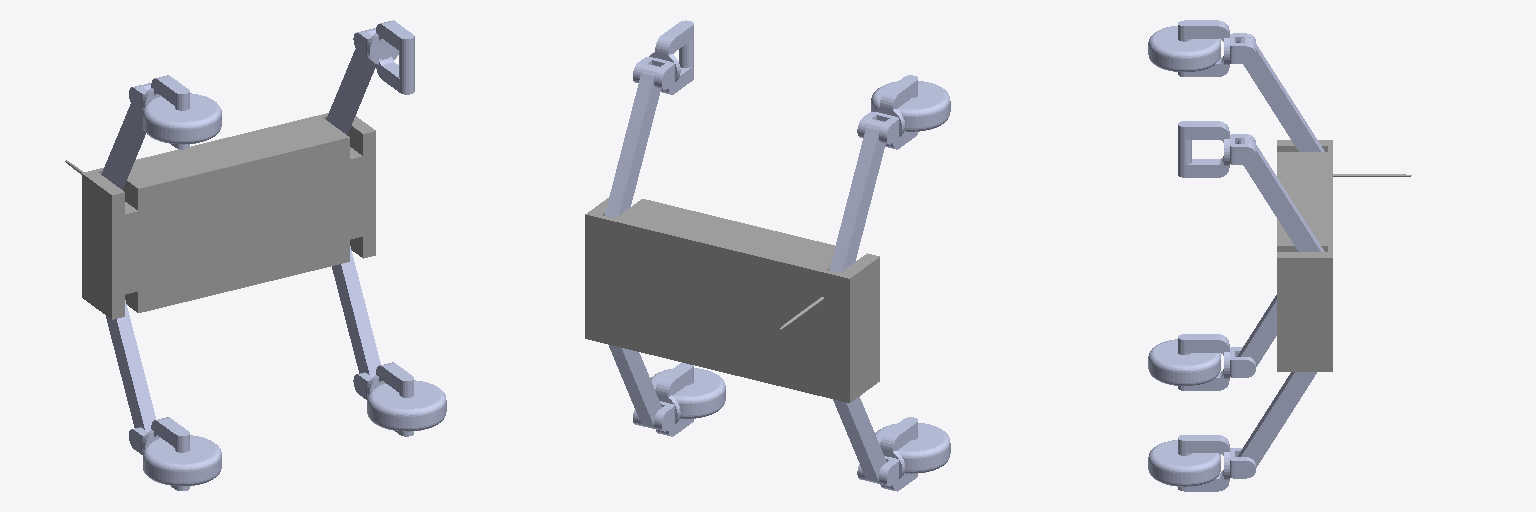
--- Render facts (derived) ---
3 views of the same robot in one strip: view 1: azimuth 30°, elevation 25°; view 2: azimuth 150°, elevation 25°; view 3: azimuth 270°, elevation 25° (orthographic).
Robot: sim_rover_1 — 17 links, 16 joints (12 revolute, 4 continuous); root link base_link; default pose: every joint at zero.
Visible links, largest first — view 1: base_link, fwheel_l, bwheel_r, bwheel_l, bleg_l, fleg_l, fsteer_r, fleg_r, bleg_r, bsteer_l, bsteer_r, fsteer_l (+1 smaller); view 2: base_link, fleg_r, bleg_r, bwheel_r, bleg_l, fleg_l, bwheel_l, fwheel_l, fsteer_r, bsteer_r, bsteer_l, fsteer_l (+4 smaller); view 3: base_link, bleg_r, fleg_r, fwheel_l, bwheel_r, bwheel_l, fleg_l, fsteer_r, bsteer_l, bsteer_r, fsteer_l, bleg_l (+4 smaller).
Boxes of the visible links, left/top/right/bottom form: base_link: left=65, top=113, right=375, bottom=319; fwheel_l: left=367, top=380, right=446, bottom=431; bwheel_r: left=143, top=93, right=221, bottom=144; bwheel_l: left=143, top=435, right=221, bottom=485; bleg_l: left=106, top=300, right=155, bottom=431; fleg_l: left=332, top=246, right=380, bottom=376; fsteer_r: left=367, top=20, right=414, bottom=94; fleg_r: left=326, top=28, right=375, bottom=134; bleg_r: left=101, top=83, right=150, bottom=189; bsteer_l: left=142, top=417, right=189, bottom=490; bsteer_r: left=142, top=75, right=189, bottom=149; fsteer_l: left=367, top=362, right=413, bottom=436; base_link: left=585, top=198, right=879, bottom=402; fleg_r: left=605, top=64, right=660, bottom=218; bleg_r: left=829, top=119, right=885, bottom=272; bwheel_r: left=871, top=81, right=950, bottom=131; bleg_l: left=833, top=396, right=886, bottom=483; fleg_l: left=609, top=345, right=661, bottom=428; bwheel_l: left=875, top=423, right=950, bottom=473; fwheel_l: left=650, top=368, right=725, bottom=418; fsteer_r: left=649, top=20, right=693, bottom=94; bsteer_r: left=873, top=75, right=917, bottom=149; bsteer_l: left=880, top=417, right=917, bottom=491; fsteer_l: left=655, top=363, right=693, bottom=436; base_link: left=1277, top=140, right=1411, bottom=371; bleg_r: left=1237, top=37, right=1324, bottom=151; fleg_r: left=1237, top=138, right=1324, bottom=251; fwheel_l: left=1148, top=440, right=1220, bottom=486; bwheel_r: left=1148, top=26, right=1220, bottom=71; bwheel_l: left=1148, top=339, right=1220, bottom=385; fleg_l: left=1238, top=372, right=1316, bottom=467; fsteer_r: left=1178, top=121, right=1229, bottom=177; bsteer_l: left=1178, top=334, right=1229, bottom=390; bsteer_r: left=1178, top=20, right=1229, bottom=76; fsteer_l: left=1178, top=435, right=1229, bottom=491; bleg_l: left=1237, top=295, right=1276, bottom=366.
Bounding box of the posed robot: 1.11 × 0.94 × 1.44 m (x, y, z).
16 mesh visuals loaded from 17 distinct referenced files (16 binary STL); not drawn: 1 (reference not matched to a file when rendering).

The robot description file, URDF, robot "sim_rover_1":
<?xml version="1.0"?>
<robot name="sim_rover_1" xmlns:xacro="http://www.ros.org/wiki/xacro">

  <!-- *********************** GAZEBO *********************** -->

   <gazebo>
     <plugin name="gazebo_ros_control" filename="libgazebo_ros_control.so">
       <robotNamespace>/sim_rover_1</robotNamespace>
     </plugin>
   </gazebo>

   <!--<gazebo reference="base_link_leg_fr">
      <implicitSpringDamper>1</implicitSpringDamper>
   </gazebo>
   <gazebo reference="base_link_leg_br">
      <implicitSpringDamper>1</implicitSpringDamper>
   </gazebo>
   <gazebo reference="base_link_leg_fl">
      <implicitSpringDamper>1</implicitSpringDamper>
   </gazebo>
   <gazebo reference="base_link_leg_bl">
      <implicitSpringDamper>1</implicitSpringDamper>
   </gazebo> -->

<!-- ******************* TRANSMISSIONS ******************** -->

  <!-- ***************************** LEGS ***************************** -->
  <transmission name="trm_bleg_r">
    <type>transmission_interface/SimpleTransmission</type>
    <joint name="j_bleg_r">
      <hardwareInterface>hardware_interface/EffortJointInterface</hardwareInterface>
    </joint>
    <actuator name="act_bleg_r">
      <hardwareInterface>hardware_interface/EffortJointInterface</hardwareInterface>
    </actuator>
  </transmission>

  <transmission name="trm_bleg_l">
    <type>transmission_interface/SimpleTransmission</type>
    <joint name="j_bleg_l">
      <hardwareInterface>hardware_interface/EffortJointInterface</hardwareInterface>
    </joint>
    <actuator name="act_bleg_l">
      <hardwareInterface>hardware_interface/EffortJointInterface</hardwareInterface>
    </actuator>
  </transmission>

  <transmission name="trm_fleg_r">
    <type>transmission_interface/SimpleTransmission</type>
    <joint name="j_fleg_r">
      <hardwareInterface>hardware_interface/EffortJointInterface</hardwareInterface>
    </joint>
    <actuator name="act_fleg_r">
      <hardwareInterface>hardware_interface/EffortJointInterface</hardwareInterface>
    </actuator>
  </transmission>

  <transmission name="trm_fleg_l">
    <type>transmission_interface/SimpleTransmission</type>
    <joint name="j_fleg_l">
      <hardwareInterface>hardware_interface/EffortJointInterface</hardwareInterface>
    </joint>
    <actuator name="act_fleg_l">
      <hardwareInterface>hardware_interface/EffortJointInterface</hardwareInterface>
    </actuator>
  </transmission>

  <!-- ***************************** WHEELS ***************************** -->
  <transmission name="trm_bwheel_r">
    <type>transmission_interface/SimpleTransmission</type>
    <joint name="j_bwheel_r">
      <hardwareInterface>hardware_interface/EffortJointInterface</hardwareInterface>
    </joint>
    <actuator name="act_bwheel_r">
      <hardwareInterface>hardware_interface/EffortJointInterface</hardwareInterface>
    </actuator>
  </transmission>

  <transmission name="trm_bwheel_l">
    <type>transmission_interface/SimpleTransmission</type>
    <joint name="j_bwheel_l">
      <hardwareInterface>hardware_interface/EffortJointInterface</hardwareInterface>
    </joint>
    <actuator name="act_bwheel_l">
      <hardwareInterface>hardware_interface/EffortJointInterface</hardwareInterface>
    </actuator>
  </transmission>

  <transmission name="trm_fwheel_r">
    <type>transmission_interface/SimpleTransmission</type>
    <joint name="j_fwheel_r">
      <hardwareInterface>hardware_interface/EffortJointInterface</hardwareInterface>
    </joint>
    <actuator name="act_fwheel_r">
      <hardwareInterface>hardware_interface/EffortJointInterface</hardwareInterface>
    </actuator>
  </transmission>

  <transmission name="trm_fwheel_l">
    <type>transmission_interface/SimpleTransmission</type>
    <joint name="j_fwheel_l">
      <hardwareInterface>hardware_interface/EffortJointInterface</hardwareInterface>
    </joint>
    <actuator name="act_fwheel_l">
      <hardwareInterface>hardware_interface/EffortJointInterface</hardwareInterface>
    </actuator>
  </transmission>

  <!-- ***************************** STEERING ***************************** -->
  <transmission name="trm_bsteer_r">
    <type>transmission_interface/SimpleTransmission</type>
    <joint name="j_bsteer_r">
      <hardwareInterface>hardware_interface/EffortJointInterface</hardwareInterface>
    </joint>
    <actuator name="act_bsteer_r">
      <hardwareInterface>hardware_interface/EffortJointInterface</hardwareInterface>
    </actuator>
  </transmission>

  <transmission name="trm_bsteer_l">
    <type>transmission_interface/SimpleTransmission</type>
    <joint name="j_bsteer_l">
      <hardwareInterface>hardware_interface/EffortJointInterface</hardwareInterface>
    </joint>
    <actuator name="act_bsteer_l">
      <hardwareInterface>hardware_interface/EffortJointInterface</hardwareInterface>
    </actuator>
  </transmission>

  <transmission name="trm_fsteer_r">
    <type>transmission_interface/SimpleTransmission</type>
    <joint name="j_fsteer_r">
      <hardwareInterface>hardware_interface/EffortJointInterface</hardwareInterface>
    </joint>
    <actuator name="act_fsteer_r">
      <hardwareInterface>hardware_interface/EffortJointInterface</hardwareInterface>
    </actuator>
  </transmission>

  <transmission name="trm_fsteer_l">
    <type>transmission_interface/SimpleTransmission</type>
    <joint name="j_fsteer_l">
      <hardwareInterface>hardware_interface/EffortJointInterface</hardwareInterface>
    </joint>
    <actuator name="act_fsteer_l">
      <hardwareInterface>hardware_interface/EffortJointInterface</hardwareInterface>
    </actuator>
  </transmission>

<!-- ************* LINKS & JOINTS ************ -->

  <link
    name="base_link">
    <inertial>
      <origin
        xyz="-0.00023551 -0.099944 7.7704E-05"
        rpy="0 0 0" />
      <mass
        value="17.276" />
      <inertia
        ixx="0.33696"
        ixy="0.00054168"
        ixz="0.00030699"
        iyy="1.6473"
        iyz="-0.00017872"
        izz="1.4272" />
    </inertial>
    <visual>
      <origin
        xyz="0 0 0"
        rpy="0 0 0" />
      <geometry>
        <mesh
          filename="package://mainframe/meshes/base_link.STL" />
      </geometry>
      <material
        name="">
        <color
          rgba="0.69804 0.69804 0.69804 1" />
      </material>
    </visual>
    <collision>
      <origin
        xyz="0 0 0"
        rpy="0 0 0" />
      <geometry>
        <mesh
          filename="package://mainframe/meshes/base_link.STL" />
      </geometry>
    </collision>
  </link>

<!-- ************* BACK RIGHT LEG ************** -->

  <link
    name="bleg_r">
    <inertial>
      <origin
        xyz="-0.025006 2.2204E-16 0.23942"
        rpy="0 0 0" />
      <mass
        value="2.2328" />
      <inertia
        ixx="0.068791"
        ixy="-3.1573E-19"
        ixz="3.4103E-06"
        iyy="0.068771"
        iyz="-1.4583E-17"
        izz="0.0016756" />
    </inertial>
    <visual>
      <origin
        xyz="0 0 0"
        rpy="0 0 0" />
      <geometry>
        <mesh
          filename="package://mainframe/meshes/bleg_r.STL" />
      </geometry>
      <material
        name="">
        <color
          rgba="0.79216 0.81961 0.93333 1" />
      </material>
    </visual>
    <collision>
      <origin
        xyz="0 0 0"
        rpy="0 0 0" />
      <geometry>
        <mesh
          filename="package://mainframe/meshes/bleg_r.STL" />
      </geometry>
    </collision>
  </link>
  <joint
    name="j_bleg_r"
    type="revolute">
    <origin
      xyz="-0.4001 -0.06 0.18503"
      rpy="0.5236 0 0" />
    <parent
      link="base_link" />
    <child
      link="bleg_r" />
    <axis
      xyz="1 0 0" />
    <limit
      lower="-0.5235988"
      upper="1.0471976"
      effort="0"
      velocity="0" />
  </joint>

  <link
    name="bmem_r">
    <inertial>
      <origin
        xyz="-0.025 -2.2204E-16 0.036945"
        rpy="0 0 0" />
      <mass
        value="0.43305" />
      <inertia
        ixx="0.00057181"
        ixy="-1.9628E-20"
        ixz="5.133E-20"
        iyy="0.00089188"
        iyz="4.8508E-20"
        izz="0.00069798" />
    </inertial>
    <visual>
      <origin
        xyz="0.025 0 0"
        rpy="0 0 0" />
      <geometry>
        <mesh
          filename="package://mainframe/meshes/bmem_r.STL" />
      </geometry>
      <material
        name="">
        <color
          rgba="0.79216 0.81961 0.93333 1" />
      </material>
    </visual>
    <collision>
      <origin
        xyz="0.025 0 0"
        rpy="0 0 0" />
      <geometry>
        <mesh
          filename="package://mainframe/meshes/bmem_r.STL" />
      </geometry>
    </collision>
  </link>
  <joint
    name="j_bmem_r"
    type="revolute">
    <origin
      xyz="-0.025 0 0.5"
      rpy="1.0472 -5.3571E-18 6.1232E-17" />
    <parent
      link="bleg_r" />
    <child
      link="bmem_r" />
    <axis
      xyz="1 0 0" />
    <limit
      lower="-3.14159"
      upper="3.14159"
      effort="0"
      velocity="0" />
  </joint>

  <link
    name="bsteer_r">
    <inertial>
      <origin
        xyz="0.0961914433810627 0.0250000080243797 5.9504070115679E-08"
        rpy="0 0 0" />
      <mass
        value="1.17586141997268" />
      <inertia
        ixx="0.00561276685308554"
        ixy="5.0542149965197E-10"
        ixz="3.17022672970041E-09"
        iyy="0.00912476488545196"
        iyz="2.50568828376167E-10"
        izz="0.00424725187394063" />
    </inertial>
    <visual>
      <origin
        xyz="0 -0.025 0"
        rpy="0 0 0" />
      <geometry>
        <mesh
          filename="package://mainframe/meshes/bsteer_r.STL" />
      </geometry>
      <material
        name="">
        <color
          rgba="0.792156862745098 0.819607843137255 0.933333333333333 1" />
      </material>
    </visual>
    <collision>
      <origin
        xyz="0 -0.025 0"
        rpy="0 0 0" />
      <geometry>
        <mesh
          filename="package://mainframe/meshes/bsteer_r.STL" />
      </geometry>
    </collision>
  </link>
  <joint
    name="j_bsteer_r"
    type="revolute">
    <origin
      xyz="0 0 0.06"
      rpy="1.5708 -1.5708 0" />
    <parent
      link="bmem_r" />
    <child
      link="bsteer_r" />
    <axis
      xyz="-1 0 0" />
    <limit
      lower="-3.14159"
      upper="3.14159"
      effort="0"
      velocity="0" />
  </joint>

  <link
    name="bwheel_r">
    <inertial>
      <origin
        xyz="0 0 0"
        rpy="0 0 0" />
      <mass
        value="3.9549407607709" />
      <inertia
        ixx="0.0337021722670314"
        ixy="1.67282003214665E-19"
        ixz="-2.64986943783354E-19"
        iyy="0.0188603494315555"
        iyz="-7.93387527261529E-20"
        izz="0.0188603494315555" />
    </inertial>
    <visual>
      <origin
        xyz="0 0 0"
        rpy="0 0 0" />
      <geometry>
        <mesh
          filename="package://mainframe/meshes/bwheel_r.STL" />
      </geometry>
      <material
        name="">
        <color
          rgba="0.792156862745098 0.819607843137255 0.933333333333333 1" />
      </material>
    </visual>
    <collision>
      <origin
        xyz="0 0 0"
        rpy="0 0 0" />
      <geometry>
        <mesh
          filename="package://mainframe/meshes/bwheel_r.STL" />
      </geometry>
    </collision>
  </link>
  <joint
    name="j_bwheel_r"
    type="continuous">
    <origin
      xyz="0.16 0 0"
      rpy="1.5707963267949 1.5707963267949 0" />
    <parent
      link="bsteer_r" />
    <child
      link="bwheel_r" />
    <axis
      xyz="-1 0 0" />
  </joint>

<!-- ************* BACK LEFT LEG ************** -->

  <link
    name="bleg_l">
    <inertial>
      <origin
        xyz="0.025006 0 0.23942"
        rpy="0 0 0" />
      <mass
        value="2.2328" />
      <inertia
        ixx="0.068791"
        ixy="2.6148E-19"
        ixz="-3.4103E-06"
        iyy="0.068771"
        iyz="6.9931E-18"
        izz="0.0016756" />
    </inertial>
    <visual>
      <origin
        xyz="0 0 0"
        rpy="0 0 0" />
      <geometry>
        <mesh
          filename="package://mainframe/meshes/bleg_l.STL" />
      </geometry>
      <material
        name="">
        <color
          rgba="0.79216 0.81961 0.93333 1" />
      </material>
    </visual>
    <collision>
      <origin
        xyz="0 0 0"
        rpy="0 0 0" />
      <geometry>
        <mesh
          filename="package://mainframe/meshes/bleg_l.STL" />
      </geometry>
    </collision>
  </link>
  <joint
    name="j_bleg_l"
    type="revolute">
    <origin
      xyz="-0.4001 -0.06 -0.18497"
      rpy="-2.618 2.0485E-18 3.1416" />
    <parent
      link="base_link" />
    <child
      link="bleg_l" />
    <axis
      xyz="-1 0 0" />
    <limit
      lower="-1.0471976"
      upper="0.5235988"
      effort="0"
      velocity="0" />
  </joint>

  <link
    name="bmem_l">
    <inertial>
      <origin
        xyz="0.025 0 0.036945"
        rpy="0 0 0" />
      <mass
        value="0.43305" />
      <inertia
        ixx="0.00057181"
        ixy="1.9235E-20"
        ixz="-6.6562E-21"
        iyy="0.00089188"
        iyz="9.7779E-21"
        izz="0.00069798" />
    </inertial>
    <visual>
      <origin
        xyz="-0.025 0 0"
        rpy="0 0 0" />
      <geometry>
        <mesh
          filename="package://mainframe/meshes/bmem_l.STL" />
      </geometry>
      <material
        name="">
        <color
          rgba="0.79216 0.81961 0.93333 1" />
      </material>
    </visual>
    <collision>
      <origin
        xyz="-0.025 0 0"
        rpy="0 0 0" />
      <geometry>
        <mesh
          filename="package://mainframe/meshes/bmem_l.STL" />
      </geometry>
    </collision>
  </link>
  <joint
    name="j_bmem_l"
    type="revolute">
    <origin
      xyz="0.025 0 0.5"
      rpy="1.0472 8.851E-17 1.4921E-16" />
    <parent
      link="bleg_l" />
    <child
      link="bmem_l" />
    <axis
      xyz="-1 0 0" />
    <limit
      lower="-3.14159"
      upper="3.14159"
      effort="0"
      velocity="0" />
  </joint>

  <link
    name="bsteer_l">
    <inertial>
      <origin
        xyz="0.0961914433810629 0.0249999919756203 -5.95040699769012E-08"
        rpy="0 0 0" />
      <mass
        value="1.17586141997268" />
      <inertia
        ixx="0.00561276685308554"
        ixy="-5.05421499903141E-10"
        ixz="-3.17022672870141E-09"
        iyy="0.00912476488545209"
        iyz="2.5056882830378E-10"
        izz="0.00424725187394076" />
    </inertial>
    <visual>
      <origin
        xyz="0 -0.025 0"
        rpy="0 0 0" />
      <geometry>
        <mesh
          filename="package://mainframe/meshes/bsteer_l.STL" />
      </geometry>
      <material
        name="">
        <color
          rgba="0.792156862745098 0.819607843137255 0.933333333333333 1" />
      </material>
    </visual>
    <collision>
      <origin
        xyz="0 -0.025 0"
        rpy="0 0 0" />
      <geometry>
        <mesh
          filename="package://mainframe/meshes/bsteer_l.STL" />
      </geometry>
    </collision>
  </link>
  <joint
    name="j_bsteer_l"
    type="revolute">
    <origin
      xyz="0 0 0.06"
      rpy="1.5708 -1.5708 0" />
    <parent
      link="bmem_l" />
    <child
      link="bsteer_l" />
    <axis
      xyz="-1 0 0" />
    <limit
      lower="-3.14159"
      upper="3.14159"
      effort="0"
      velocity="0" />
  </joint>

  <link
    name="bwheel_l">
    <inertial>
      <origin
        xyz="0 -1.38777878078145E-17 -1.38777878078145E-17"
        rpy="0 0 0" />
      <mass
        value="3.95494076077089" />
      <inertia
        ixx="0.0337021722670314"
        ixy="4.09392232449225E-19"
        ixz="2.38335700971551E-19"
        iyy="0.0188603494315555"
        iyz="4.29350413051364E-18"
        izz="0.0188603494315555" />
    </inertial>
    <visual>
      <origin
        xyz="0 0 0"
        rpy="0 0 0" />
      <geometry>
        <mesh
          filename="package://mainframe/meshes/bwheel_l.STL" />
      </geometry>
      <material
        name="">
        <color
          rgba="0.792156862745098 0.819607843137255 0.933333333333333 1" />
      </material>
    </visual>
    <collision>
      <origin
        xyz="0 0 0"
        rpy="0 0 0" />
      <geometry>
        <mesh
          filename="package://mainframe/meshes/bwheel_l.STL" />
      </geometry>
    </collision>
  </link>
  <joint
    name="j_bwheel_l"
    type="continuous">
    <origin
      xyz="0.16 0 0"
      rpy="1.5707963267949 1.5707963267949 0" />
    <parent
      link="bsteer_l" />
    <child
      link="bwheel_l" />
    <axis
      xyz="1 0 0" />
  </joint>

<!-- ************* FRONT LEFT LEG ************** -->

  <link
    name="fleg_l">
    <inertial>
      <origin
        xyz="0.025006 -2.7756E-17 0.23942"
        rpy="0 0 0" />
      <mass
        value="2.2328" />
      <inertia
        ixx="0.068791"
        ixy="6.9224E-20"
        ixz="-3.4103E-06"
        iyy="0.068771"
        iyz="1.3878E-17"
        izz="0.0016756" />
    </inertial>
    <visual>
      <origin
        xyz="0 0 0"
        rpy="0 0 0" />
      <geometry>
        <mesh
          filename="package://mainframe/meshes/fleg_l.STL" />
      </geometry>
      <material
        name="">
        <color
          rgba="0.79216 0.81961 0.93333 1" />
      </material>
    </visual>
    <collision>
      <origin
        xyz="0 0 0"
        rpy="0 0 0" />
      <geometry>
        <mesh
          filename="package://mainframe/meshes/fleg_l.STL" />
      </geometry>
    </collision>
  </link>
  <joint
    name="j_fleg_l"
    type="revolute">
    <origin
      xyz="0.4499 -0.06 -0.18497"
      rpy="-2.618 -1.8733E-18 3.1416" />
    <parent
      link="base_link" />
    <child
      link="fleg_l" />
    <axis
      xyz="-1 0 0" />
    <limit
      lower="-1.0471976"
      upper="0.5235988"
      effort="0"
      velocity="0" />
  </joint>

  <link
    name="fmem_l">
    <inertial>
      <origin
        xyz="0.025 0 0.036945"
        rpy="0 0 0" />
      <mass
        value="0.43305" />
      <inertia
        ixx="0.00057181"
        ixy="-6.8602E-20"
        ixz="9.4789E-20"
        iyy="0.00089188"
        iyz="9.6898E-20"
        izz="0.00069798" />
    </inertial>
    <visual>
      <origin
        xyz="-0.025 0 0"
        rpy="0 0 0" />
      <geometry>
        <mesh
          filename="package://mainframe/meshes/fmem_l.STL" />
      </geometry>
      <material
        name="">
        <color
          rgba="0.79216 0.81961 0.93333 1" />
      </material>
    </visual>
    <collision>
      <origin
        xyz="-0.025 0 0"
        rpy="0 0 0" />
      <geometry>
        <mesh
          filename="package://mainframe/meshes/fmem_l.STL" />
      </geometry>
    </collision>
  </link>
  <joint
    name="j_fmem_l"
    type="revolute">
    <origin
      xyz="0.025 0 0.5"
      rpy="1.0472 4.7763E-32 -4.7845E-18" />
    <parent
      link="fleg_l" />
    <child
      link="fmem_l" />
    <axis
      xyz="-1 0 0" />
    <limit
      lower="-3.14159"
      upper="3.14159"
      effort="0"
      velocity="0" />
  </joint>

  <link
    name="fsteer_l">
    <inertial>
      <origin
        xyz="0.0961914433810629 0.0250000080243798 5.95040698936344E-08"
        rpy="0 0 0" />
      <mass
        value="1.17586141997268" />
      <inertia
        ixx="0.00561276685308554"
        ixy="5.05421535303316E-10"
        ixz="3.17022673053214E-09"
        iyy="0.00912476488545195"
        iyz="2.50568827419139E-10"
        izz="0.00424725187394062" />
    </inertial>
    <visual>
      <origin
        xyz="0 -0.025 0"
        rpy="0 0 0" />
      <geometry>
        <mesh
          filename="package://mainframe/meshes/fsteer_l.STL" />
      </geometry>
      <material
        name="">
        <color
          rgba="0.792156862745098 0.819607843137255 0.933333333333333 1" />
      </material>
    </visual>
    <collision>
      <origin
        xyz="0 -0.025 0"
        rpy="0 0 0" />
      <geometry>
        <mesh
          filename="package://mainframe/meshes/fsteer_l.STL" />
      </geometry>
    </collision>
  </link>
  <joint
    name="j_fsteer_l"
    type="revolute">
    <origin
      xyz="0 0 0.06"
      rpy="1.5708 -1.5708 0" />
    <parent
      link="fmem_l" />
    <child
      link="fsteer_l" />
    <axis
      xyz="-1 0 0" />
    <limit
      lower="-3.14159"
      upper="3.14159"
      effort="0"
      velocity="0" />
  </joint>

  <link
    name="fwheel_l">
    <inertial>
      <origin
        xyz="1.11022302462516E-16 -1.38777878078145E-17 0"
        rpy="0 0 0" />
      <mass
        value="3.95494076077089" />
      <inertia
        ixx="0.0337021722670313"
        ixy="-4.01483688508953E-19"
        ixz="-5.0775365569417E-19"
        iyy="0.0188603494315554"
        iyz="2.63027994087095E-19"
        izz="0.0188603494315554" />
    </inertial>
    <visual>
      <origin
        xyz="0 0 0"
        rpy="0 0 0" />
      <geometry>
        <mesh
          filename="package://mainframe/meshes/fwheel_l.STL" />
      </geometry>
      <material
        name="">
        <color
          rgba="0.792156862745098 0.819607843137255 0.933333333333333 1" />
      </material>
    </visual>
    <collision>
      <origin
        xyz="0 0 0"
        rpy="0 0 0" />
      <geometry>
        <mesh
          filename="package://mainframe/meshes/fwheel_l.STL" />
      </geometry>
    </collision>
  </link>
  <joint
    name="j_fwheel_l"
    type="continuous">
    <origin
      xyz="0.16 0 0"
      rpy="1.5707963267949 1.5707963267949 0" />
    <parent
      link="fsteer_l" />
    <child
      link="fwheel_l" />
    <axis
      xyz="1 0 0" />
  </joint>

<!-- ************* FRONT RIGHT LEG ************** -->

  <link
    name="fleg_r">
    <inertial>
      <origin
        xyz="-0.025006 1.1102E-16 0.23942"
        rpy="0 0 0" />
      <mass
        value="2.2328" />
      <inertia
        ixx="0.068791"
        ixy="-1.3208E-20"
        ixz="3.4103E-06"
        iyy="0.068771"
        iyz="-2.4937E-17"
        izz="0.0016756" />
    </inertial>
    <visual>
      <origin
        xyz="0 0 0"
        rpy="0 0 0" />
      <geometry>
        <mesh
          filename="package://mainframe/meshes/fleg_r.STL" />
      </geometry>
      <material
        name="">
        <color
          rgba="0.79216 0.81961 0.93333 1" />
      </material>
    </visual>
    <collision>
      <origin
        xyz="0 0 0"
        rpy="0 0 0" />
      <geometry>
        <mesh
          filename="package://mainframe/meshes/fleg_r.STL" />
      </geometry>
    </collision>
  </link>
  <joint
    name="j_fleg_r"
    type="revolute">
    <origin
      xyz="0.4499 -0.06 0.18503"
      rpy="0.5236 -3.234E-20 0" />
    <parent
      link="base_link" />
    <child
      link="fleg_r" />
    <axis
      xyz="1 0 0" />
    <limit
      lower="-0.5235988"
      upper="1.0471976"
      effort="0"
      velocity="0" />
  </joint>

  <link
    name="fmem_r">
    <inertial>
      <origin
        xyz="0 0 0.036945"
        rpy="0 0 0" />
      <mass
        value="0.43305" />
      <inertia
        ixx="0.00057181"
        ixy="-1.1782E-20"
        ixz="-7.248E-20"
        iyy="0.00089188"
        iyz="2.0744E-20"
        izz="0.00069798" />
    </inertial>
    <visual>
      <origin
        xyz="0.025 0 0"
        rpy="0 0 0" />
      <geometry>
        <mesh
          filename="package://mainframe/meshes/fmem_r.STL" />
      </geometry>
      <material
        name="">
        <color
          rgba="0.79216 0.81961 0.93333 1" />
      </material>
    </visual>
    <collision>
      <origin
        xyz="0.025 0 0"
        rpy="0 0 0" />
      <geometry>
        <mesh
          filename="package://mainframe/meshes/fmem_r.STL" />
      </geometry>
    </collision>
  </link>
  <joint
    name="j_fmem_r"
    type="revolute">
    <origin
      xyz="-0.025 0 0.5"
      rpy="1.0472 -5.3571E-18 6.1232E-17" />
    <parent
      link="fleg_r" />
    <child
      link="fmem_r" />
    <axis
      xyz="1 0 0" />
    <limit
      lower="-3.14159"
      upper="3.14159"
      effort="0"
      velocity="0" />
  </joint>

  <link
    name="fsteer_r">
    <inertial>
      <origin
        xyz="0.0250000080243798 -0.0961914433810629 5.95040698936344E-08"
        rpy="0 0 0" />
      <mass
        value="1.17586141997268" />
      <inertia
        ixx="0.00912476488545223"
        ixy="-5.05421453739121E-10"
        ixz="2.5056882884587E-10"
        iyy="0.00561276685308557"
        iyz="-3.17022672765945E-09"
        izz="0.00424725187394089" />
    </inertial>
    <visual>
      <origin
        xyz="0 -0.025 0"
        rpy="0 0 1.5707963267949" />
      <geometry>
        <mesh
          filename="package://mainframe/meshes/fsteer_r.STL" />
      </geometry>
      <material
        name="">
        <color
          rgba="0.792156862745098 0.819607843137255 0.933333333333333 1" />
      </material>
    </visual>
    <collision>
      <origin
        xyz="0 -0.025 0"
        rpy="0 0 1.5707963267949" />
      <geometry>
        <mesh
          filename="package://mainframe/meshes/fsteer_r.STL" />
      </geometry>
    </collision>
  </link>
  <joint
    name="j_fsteer_r"
    type="revolute">
    <origin
      xyz="0 0 0.06"
      rpy="1.5708 -1.5708 0" />
    <parent
      link="fmem_r" />
    <child
      link="fsteer_r" />
    <axis
      xyz="0 1 0" />
    <limit
      lower="-3.14159"
      upper="3.14159"
      effort="0"
      velocity="0" />
  </joint>

  <link
    name="fwheel_r">
    <inertial>
      <origin
        xyz="2.22044604925031E-16 1.38777878078145E-17 -1.11022302462516E-16"
        rpy="0 0 0" />
      <mass
        value="3.9549407607709" />
      <inertia
        ixx="0.0337021722670314"
        ixy="1.3834342351992E-19"
        ixz="6.37008809819038E-19"
        iyy="0.0188603494315555"
        iyz="-1.50626280823456E-19"
        izz="0.0188603494315555" />
    </inertial>
    <visual>
      <origin
        xyz="0 0 0"
        rpy="0 0 0" />
      <geometry>
        <mesh
          filename="package://mainframe/meshes/fwheel_r.STL" />
      </geometry>
      <material
        name="">
        <color
          rgba="0.792156862745098 0.819607843137255 0.933333333333333 1" />
      </material>
    </visual>
    <collision>
      <origin
        xyz="0 0 0"
        rpy="0 0 0" />
      <geometry>
        <mesh
          filename="package://mainframe/meshes/fwheel_r.STL" />
      </geometry>
    </collision>
  </link>
  <joint
    name="j_fwheel_r"
    type="continuous">
    <origin
      xyz="0.16 0 0"
      rpy="1.5707963267949 1.5707963267949 0" />
    <parent
      link="fsteer_r" />
    <child
      link="fwheel_r" />
    <axis
      xyz="-1 0 0" />
  </joint>

  <plugin name="vert_wb" filename="libvert_wb.so"/>
</robot>
